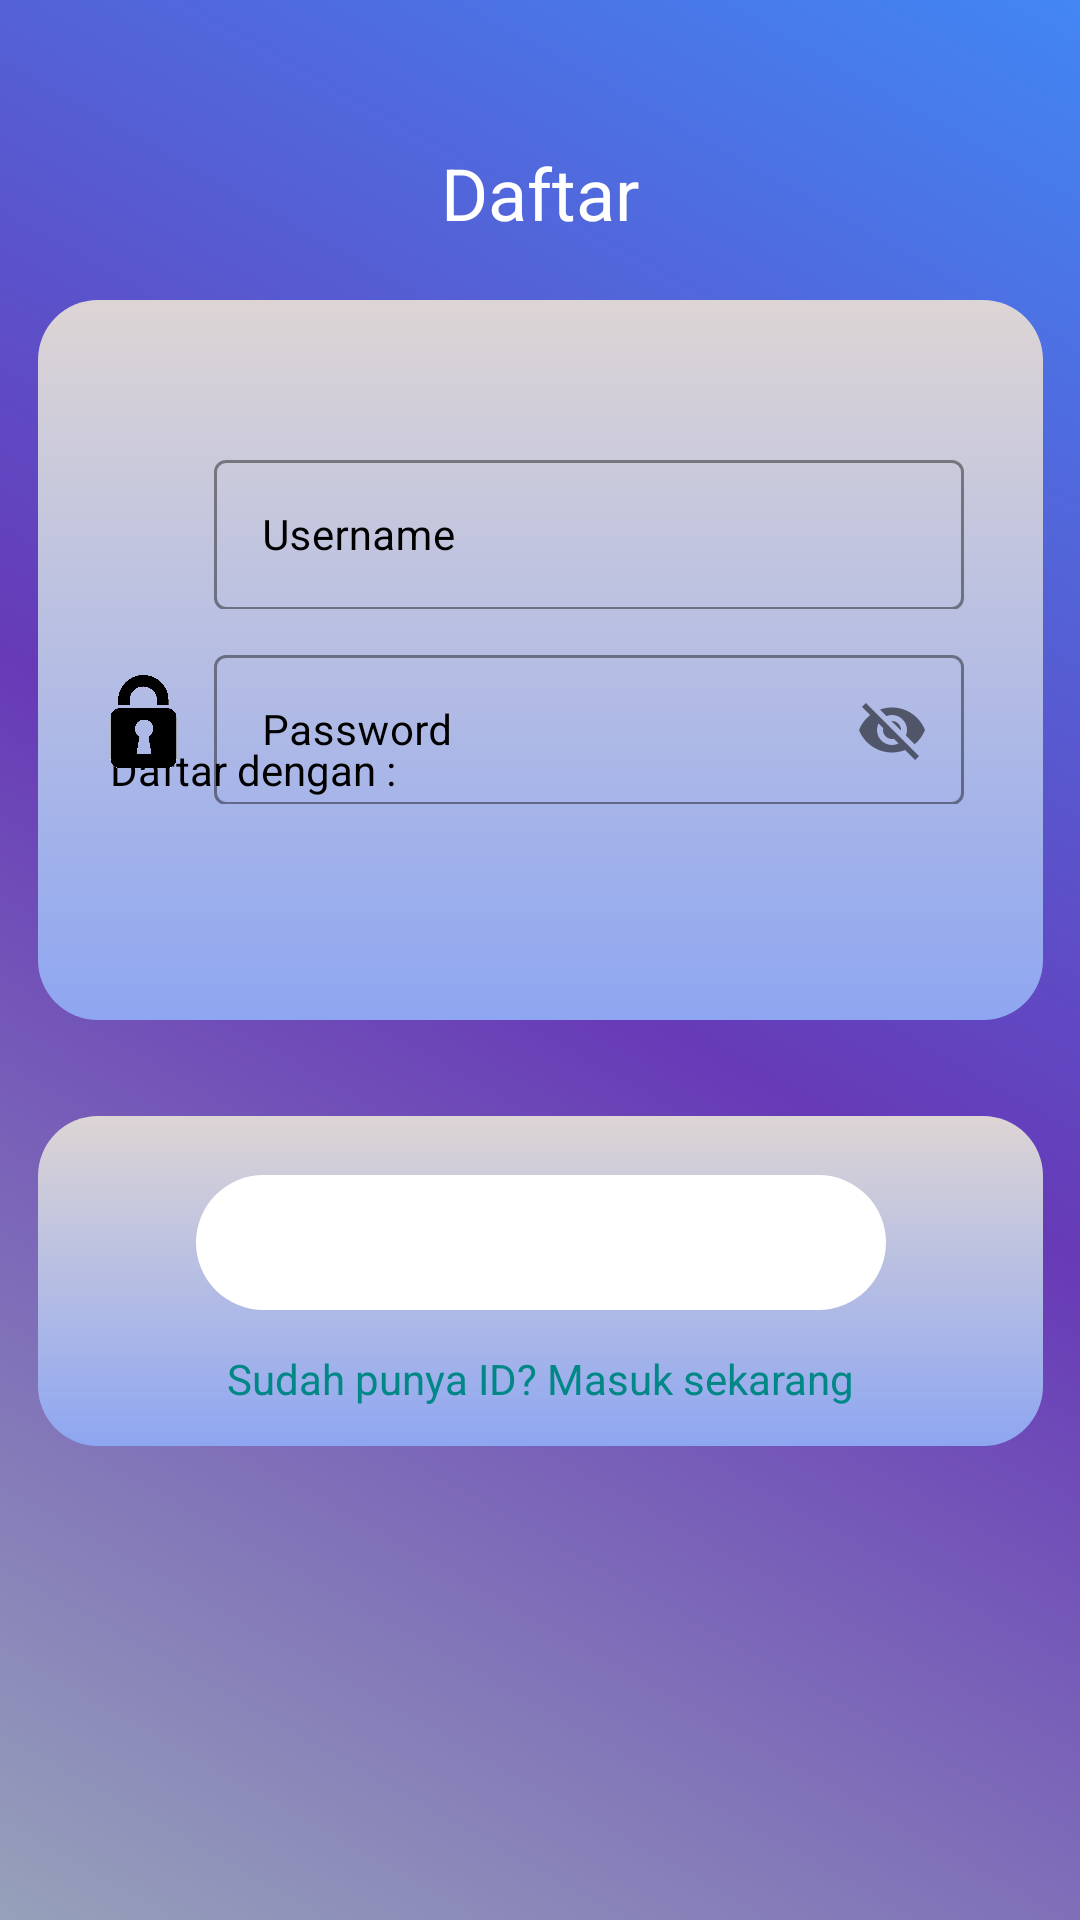

Where to tap for icons on this 1080px×1920px app screen, as (x=x, y=y):
passimage: (x=149, y=721)
